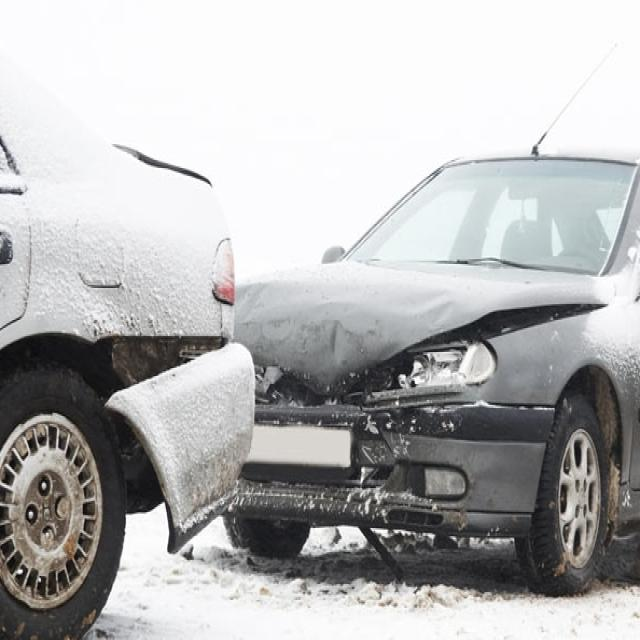crush: (233, 263, 614, 526)
misalignment: (93, 332, 229, 404)
